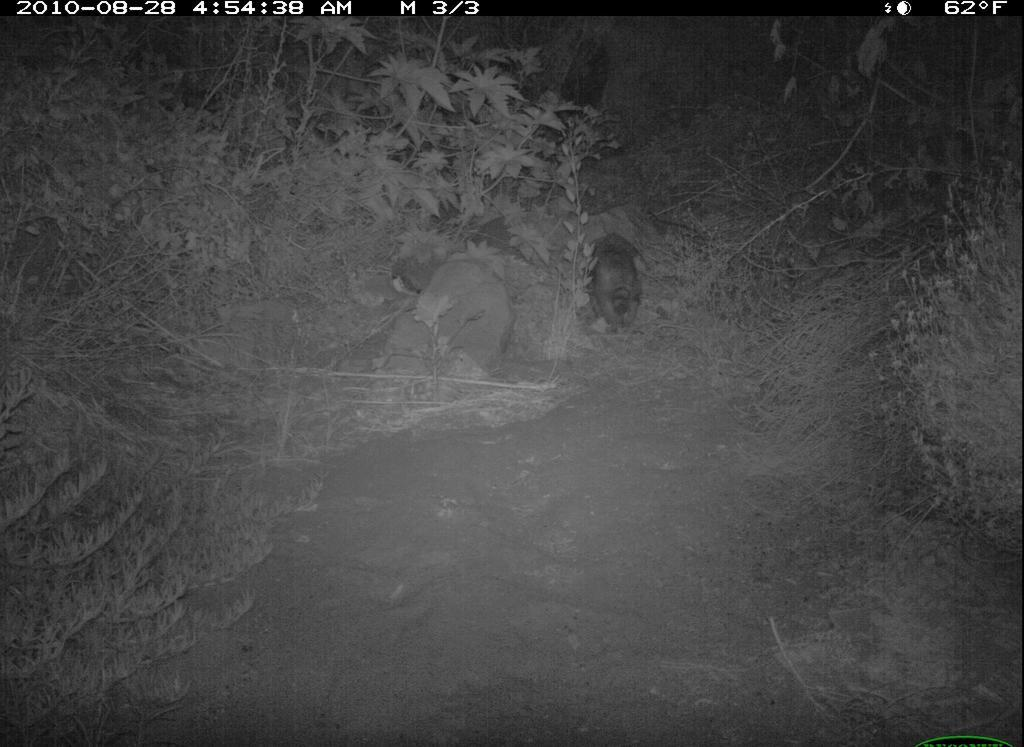raccoon: (580, 236, 685, 350)
